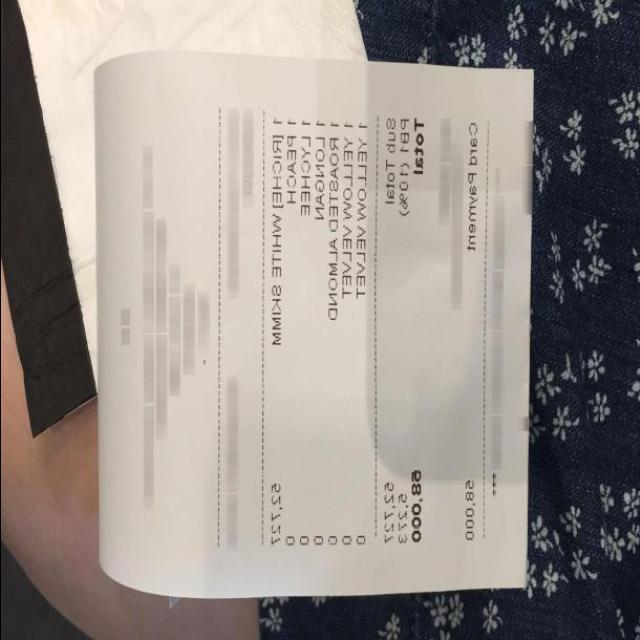kertas: (93, 52, 533, 597)
